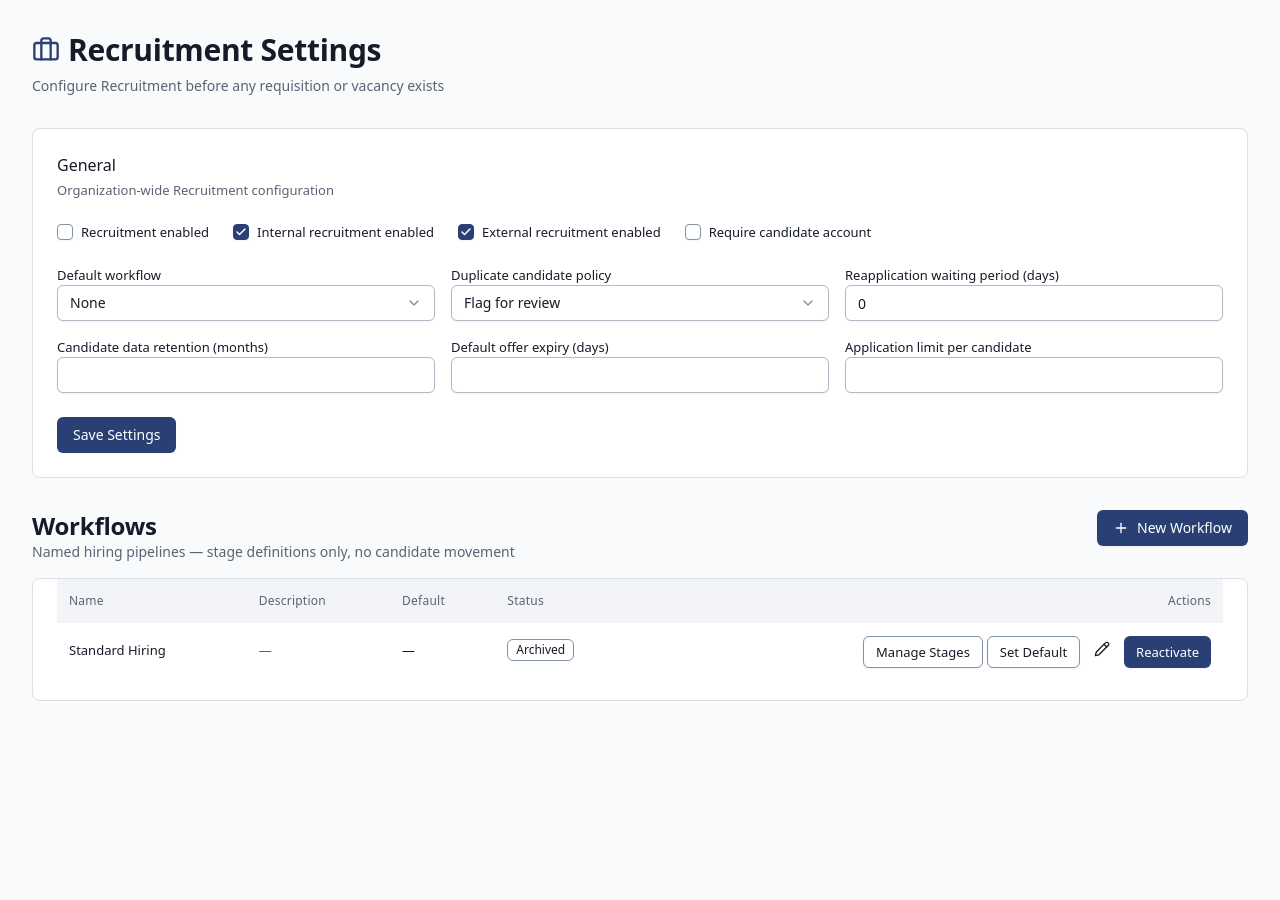
Test: Recruitment Settings page › archive / reactivate confirmation › uses a restorative reactivate dialog for an archived workflow
Click the button with test id "button-toggle-workflow-1" at point(1168, 652), box [1124,636,1211,668]
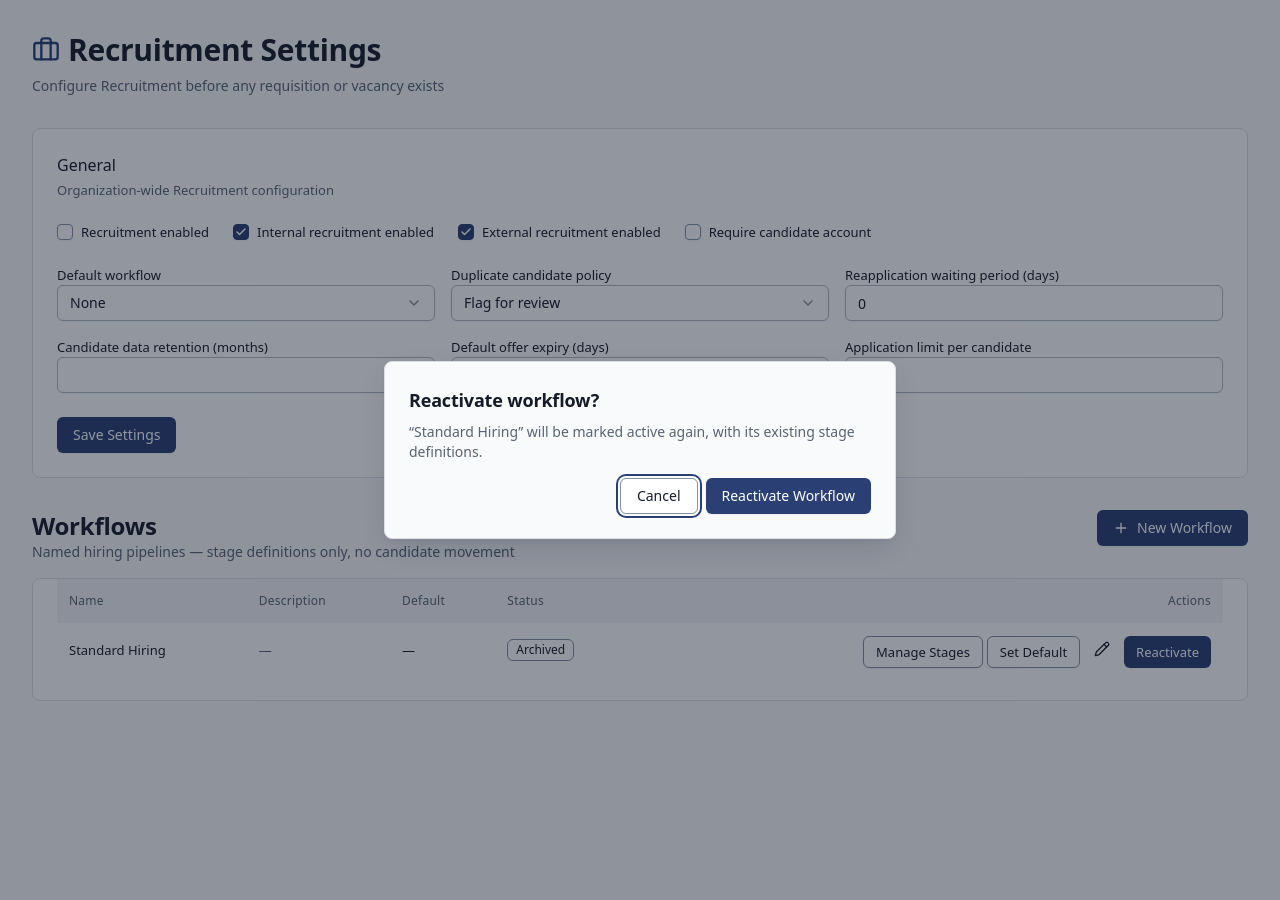
Result: the dialog with test id "dialog-reactivate-workflow" shows "Reactivate workflow?" at [409,388,599,412]
Click the button with test id "dialog-reactivate-workflow-confirm" at point(788, 496), box [706,478,871,514]
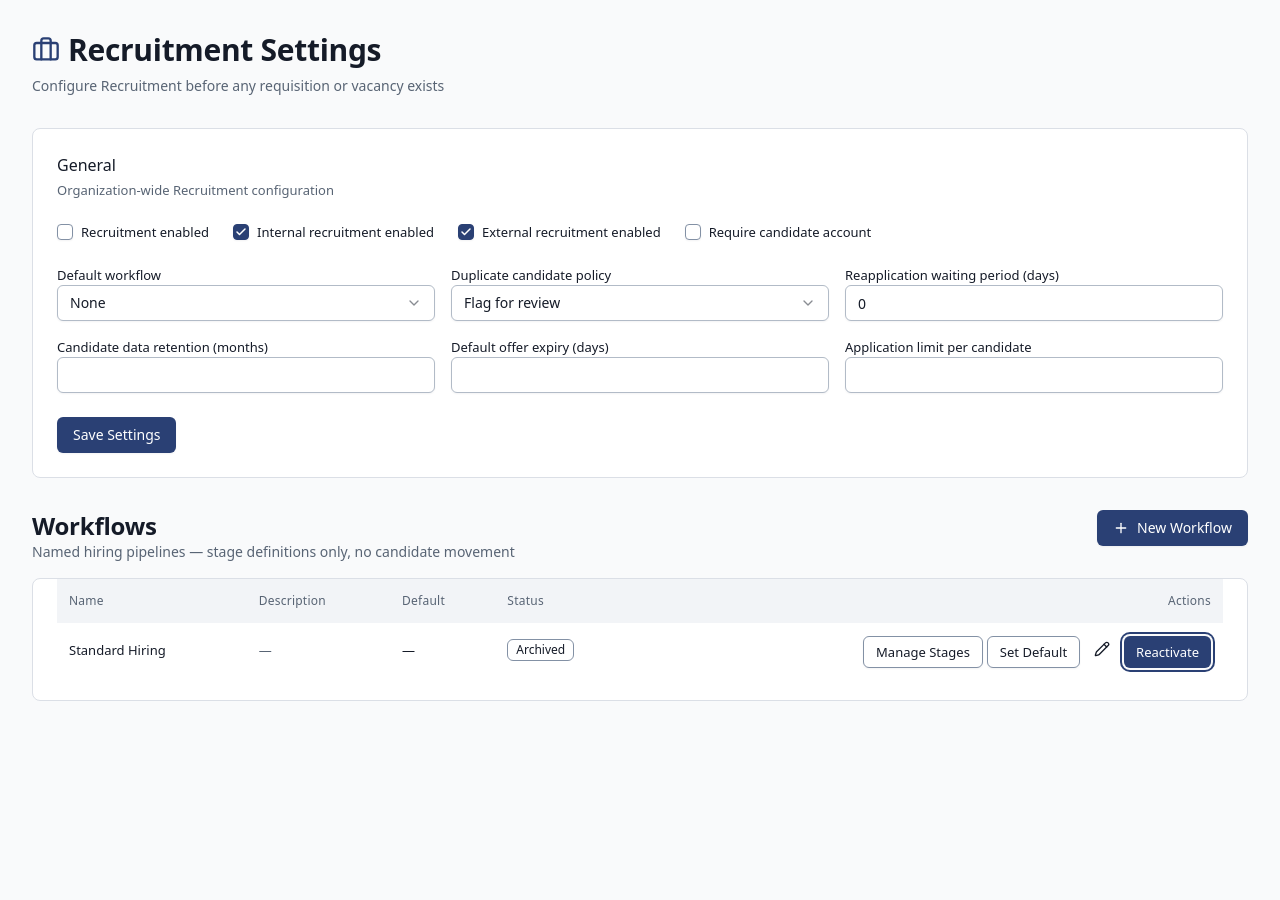
Result: the dialog with test id "dialog-reactivate-workflow" is gone
